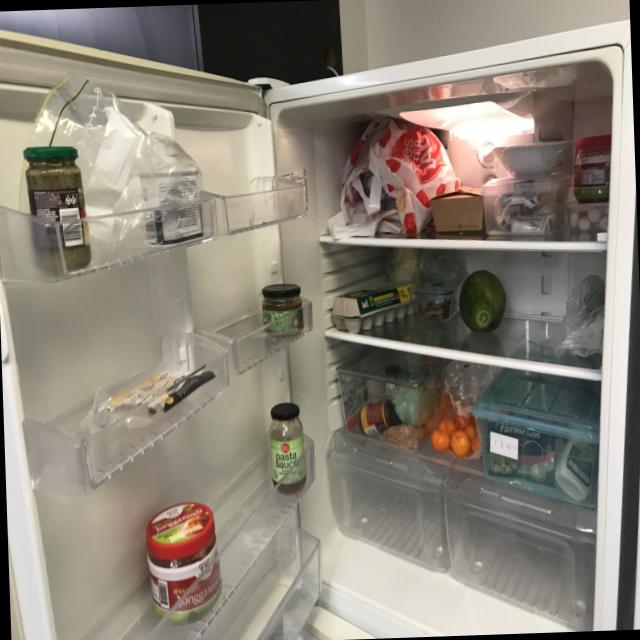Huevos: (330, 281, 416, 329)
orange: (431, 420, 479, 454)
